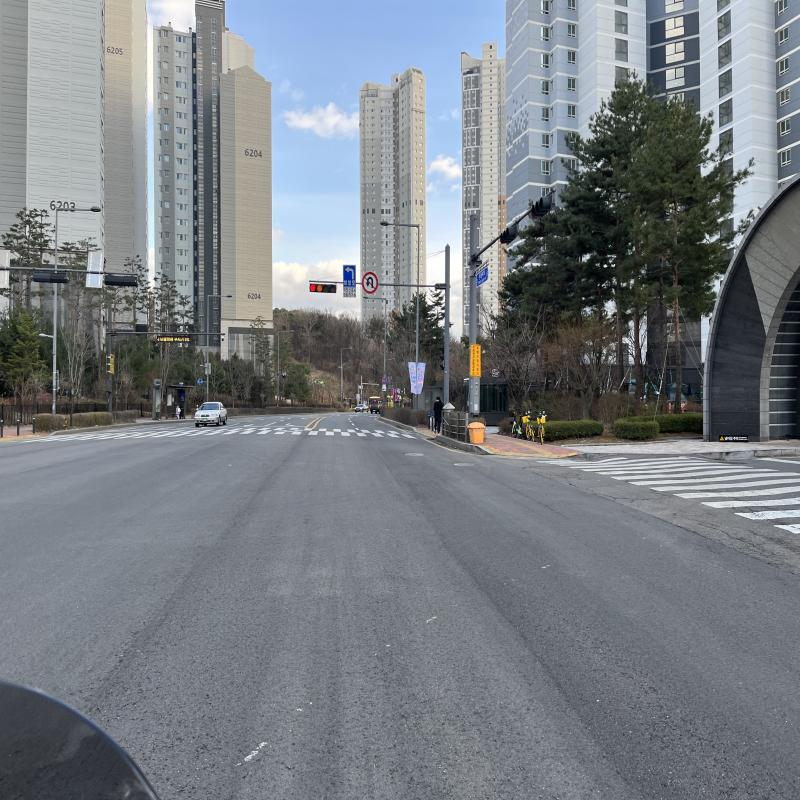red: (310, 284, 316, 292)
